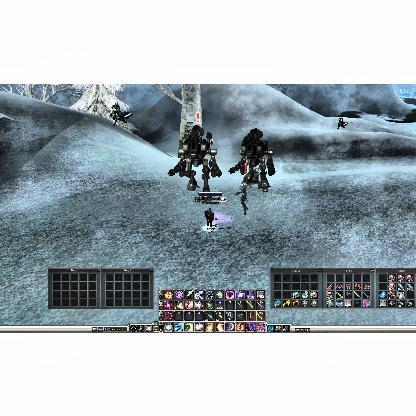caliana: (235, 181, 252, 215)
